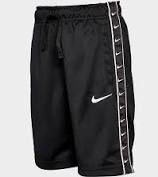nike: (87, 86, 118, 106)
